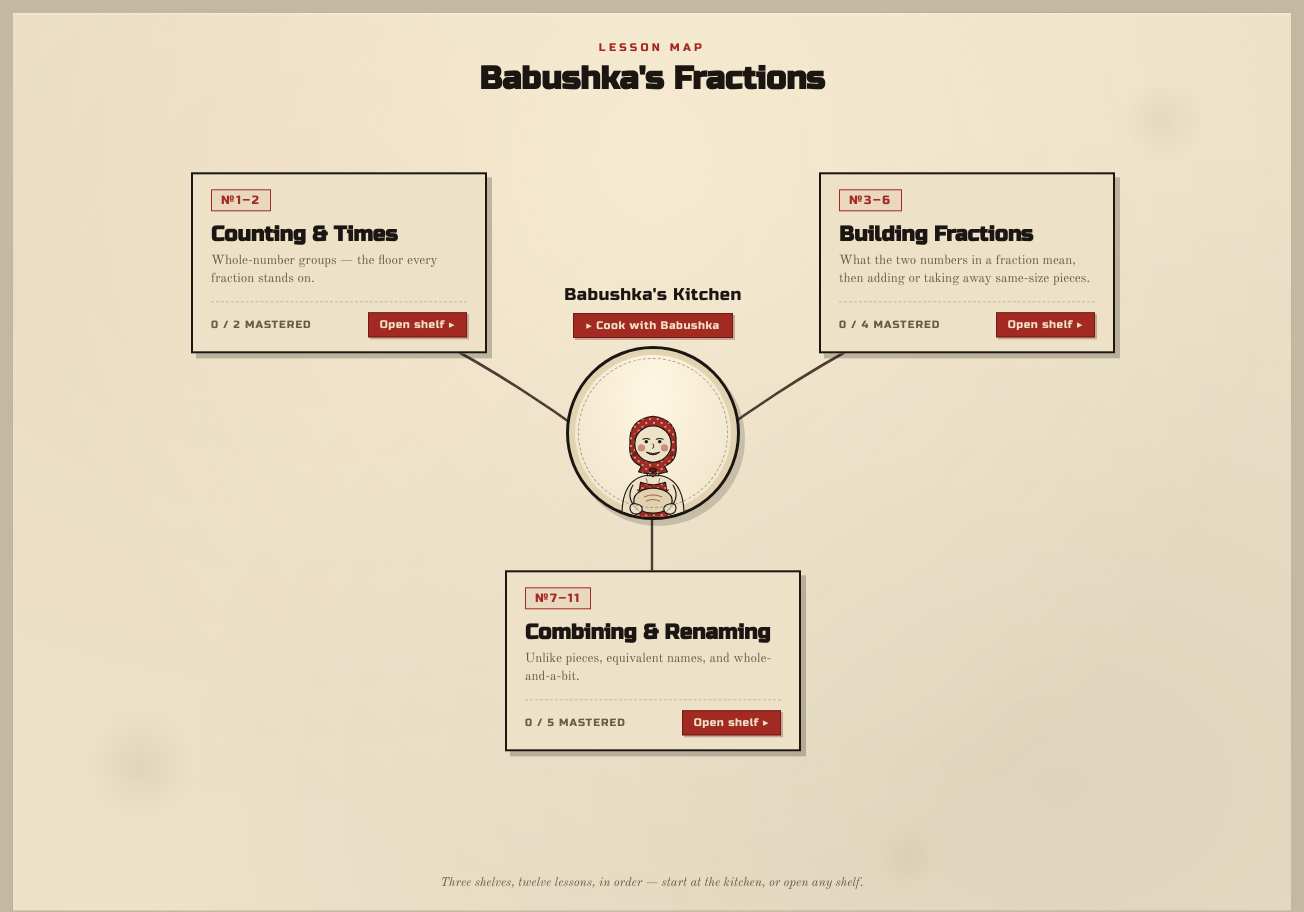
WorldMap — two-level shelf/submenu rendering › shows "In progress" badge on a lesson card inside a shelf
Click the button with class "shelf" that starts with "Counting & Times". click: (339, 263)
box: [191,172,487,354]
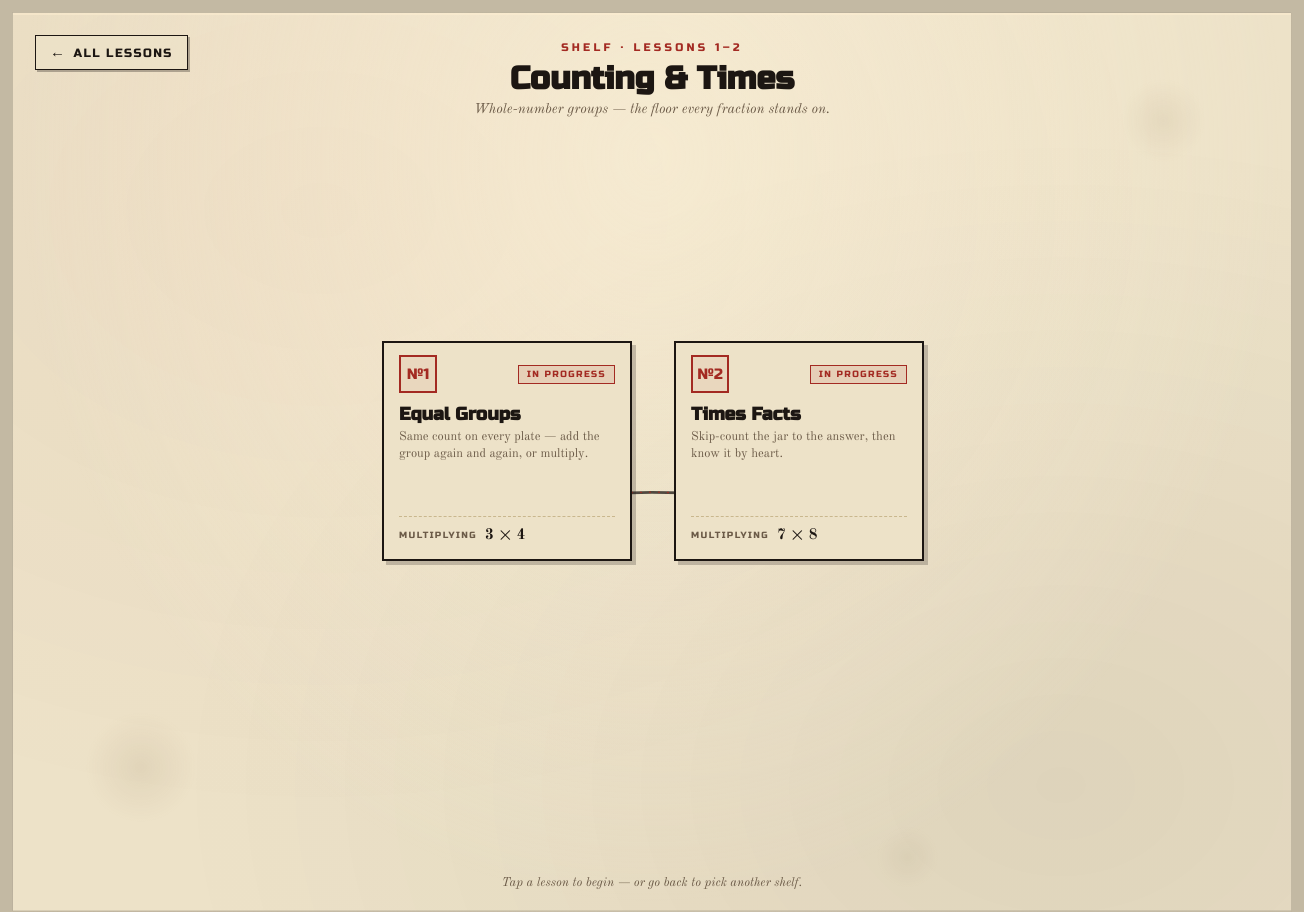
Expected: the 1st text "In progress" is shown, [518,364,615,384]
